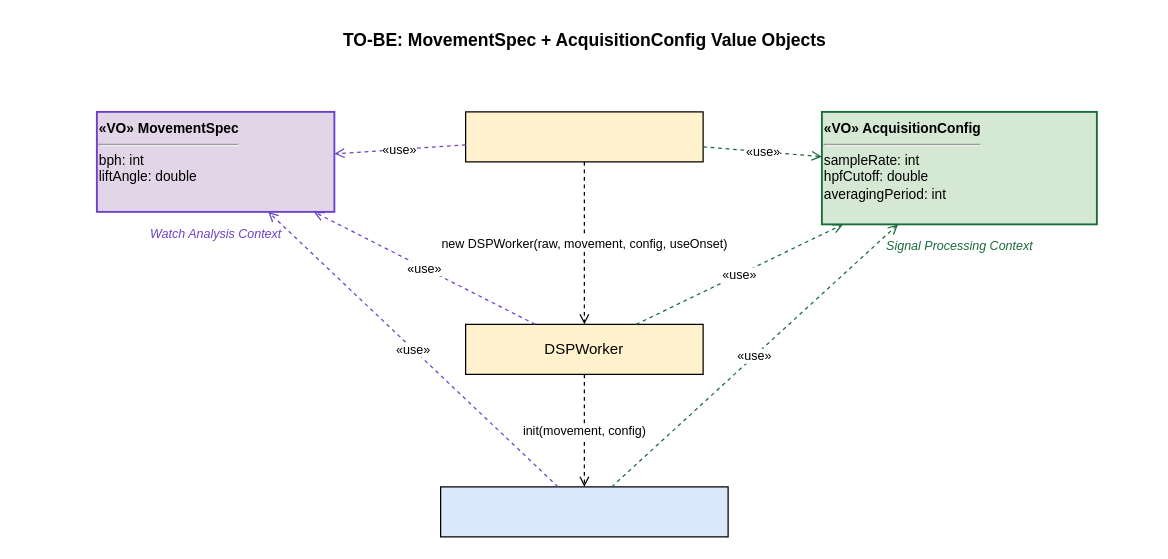
Some shapes in this 1168 by 559 pixel diagram are drawn without their labels. The centre of each missing label's shape, as x and y in pixels:
"MainWindow" belongs at pixel 583 136.
"MeasurementEngine" belongs at pixel 583 511.
